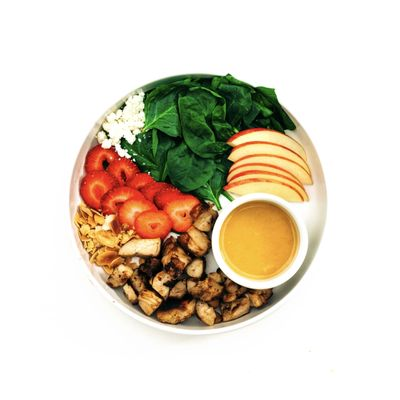sushi: (67, 66, 346, 337)
